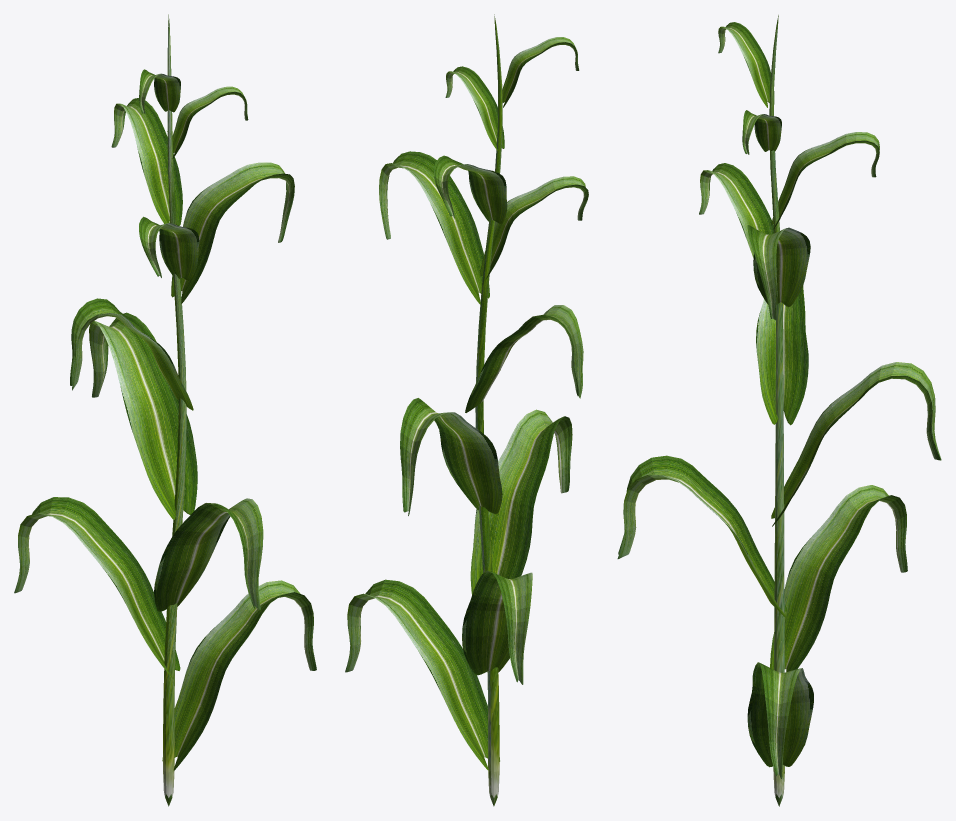
The model's file is Corn-Final-HighPoly.fbx.
3 views of the same model, side by side, from view 1: azimuth 30°, elevation 25°; view 2: azimuth 150°, elevation 25°; view 3: azimuth 270°, elevation 25° (orthographic).
Parts seen in each view (by area): view 1: Plane.009; view 2: Plane.009; view 3: Plane.009.
Part boxes in pixels (x1,y1,x2,y2): Plane.009: (14,14,316,806); Plane.009: (345,14,588,806); Plane.009: (617,15,941,806).
Size of the model in its own units: 62.76 by 198 by 73.33.
1 material, 1 textured.
